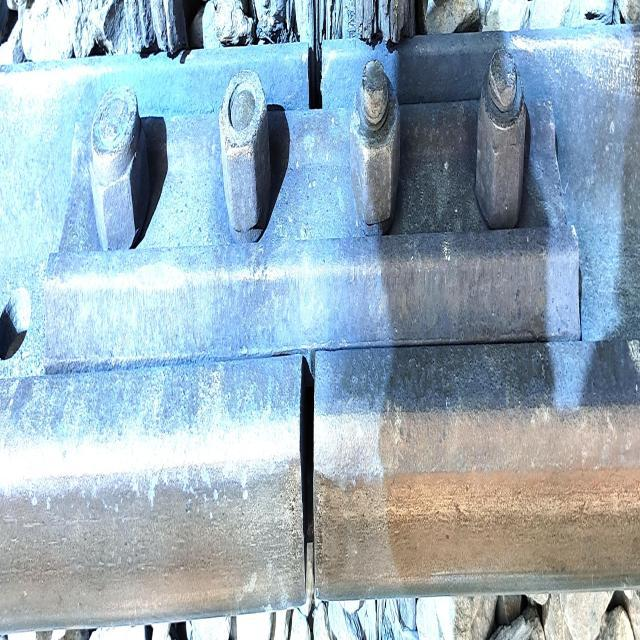Good Joint: (44, 47, 580, 372)
